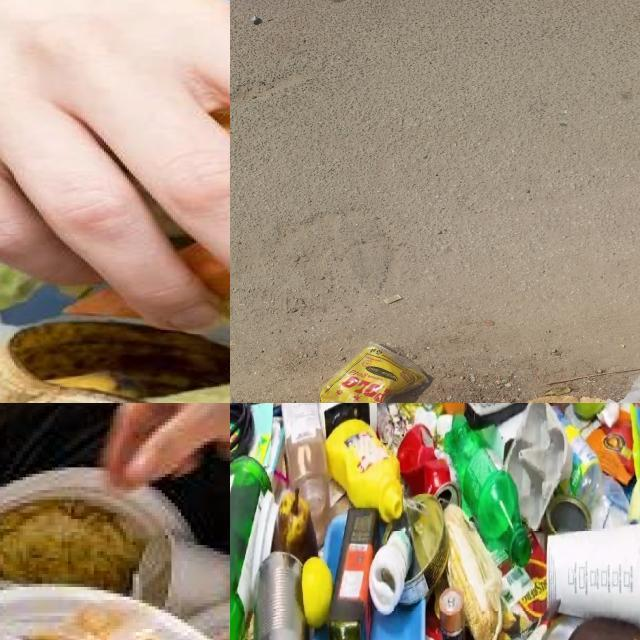Background: (230, 0, 640, 403)
Cig_bud: (383, 294, 403, 305)
Disposable: (546, 524, 640, 627)
E_waste: (368, 527, 412, 614), (465, 403, 528, 429), (439, 588, 465, 640)
Garbage: (230, 403, 640, 640), (0, 468, 230, 640)
Glass_bottle: (230, 455, 271, 640), (329, 510, 378, 640), (376, 403, 397, 448)
Plastic: (369, 601, 426, 640), (323, 513, 346, 578)
Plastic_Bag: (320, 343, 427, 403)
Plastic_Container: (325, 420, 403, 521), (282, 403, 329, 516)
Plastic_bottle: (443, 414, 531, 565), (557, 411, 629, 530)
Plastic_wraper: (497, 536, 548, 640), (587, 411, 634, 485)
Tin_box: (399, 492, 448, 605), (546, 498, 592, 533)
can: (398, 423, 458, 502)
contaminated_waste: (0, 586, 209, 640)
